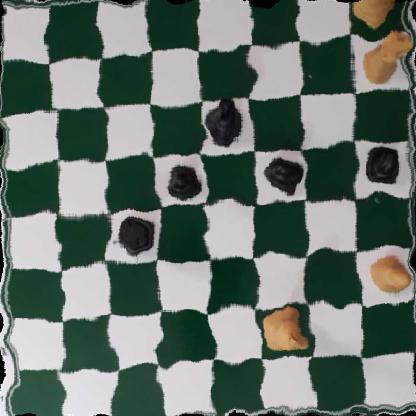black-king: (200, 97, 248, 147)
black-pawn: (360, 139, 404, 186), (162, 164, 201, 203), (266, 154, 302, 196)
black-rook: (110, 215, 158, 259)
white-bishop: (350, 0, 401, 24)
white-king: (258, 306, 309, 356)
white-pawn: (368, 252, 410, 296)
white-rook: (361, 29, 412, 86)
